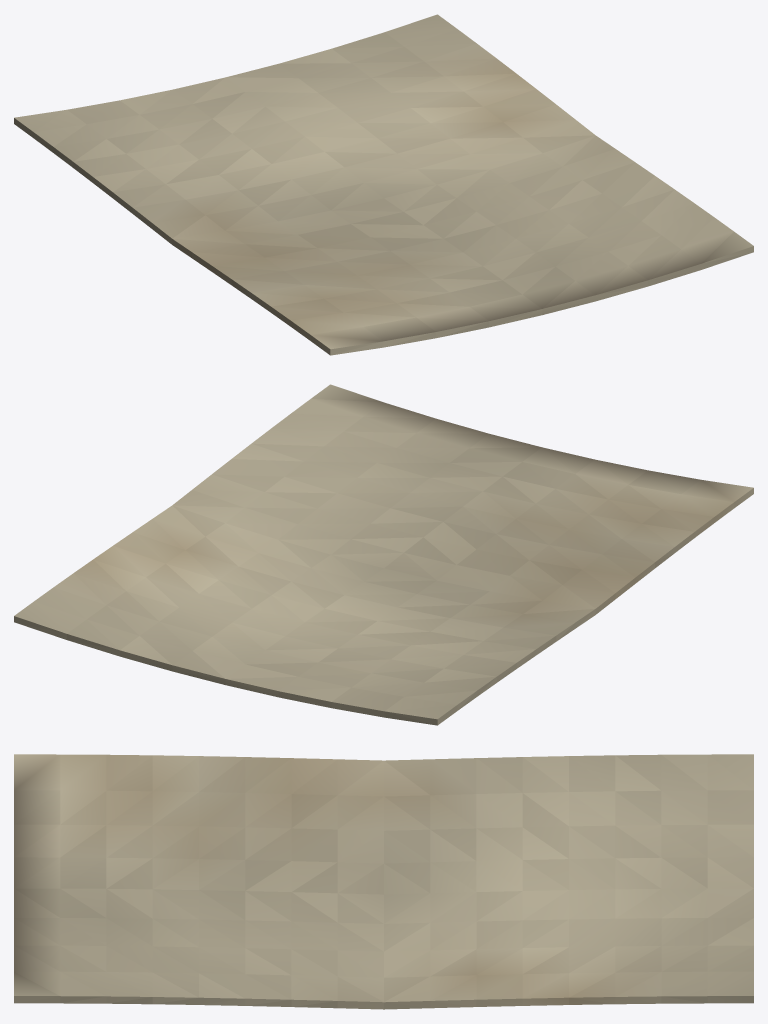
Rendered from Note.glb.
3 renders of one model, top to bottom at view 1: azimuth 30°, elevation 25°; view 2: azimuth 150°, elevation 25°; view 3: azimuth 270°, elevation 25°, orthographic. The views are drawn at different scales.
Parts seen in each view (by area): view 1: Note_paper; view 2: Note_paper; view 3: Note_paper.
Boxes of the visible parts, x1,y1,x2,y2 form: Note_paper: [14, 14, 753, 355]; Note_paper: [14, 384, 753, 725]; Note_paper: [14, 754, 753, 1009].
Bounding box in the file's own units: 0.85 × 0.0436 × 1.1.
